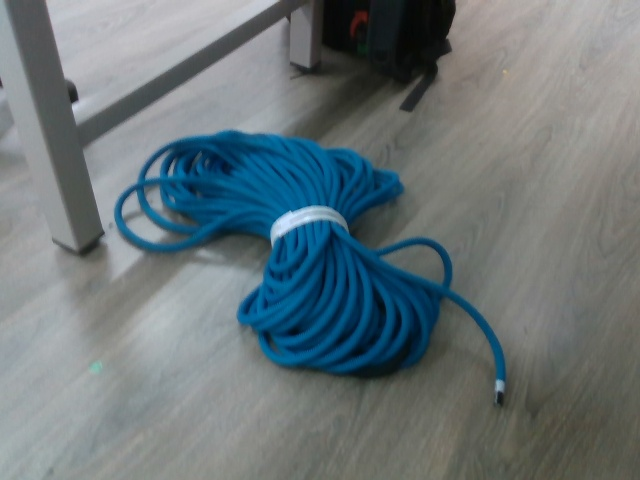rope: (107, 124, 527, 415)
